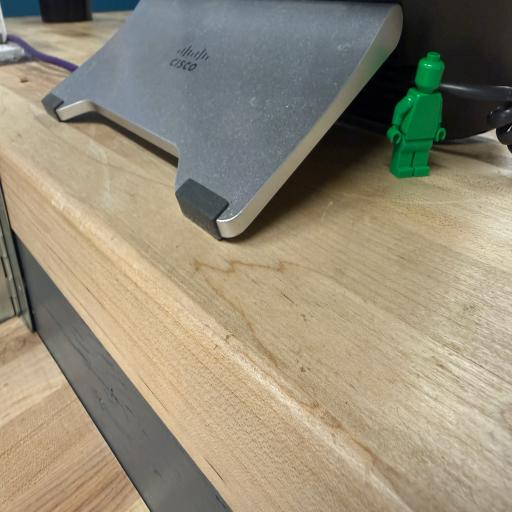Lego-Dude: (387, 52, 446, 178)
